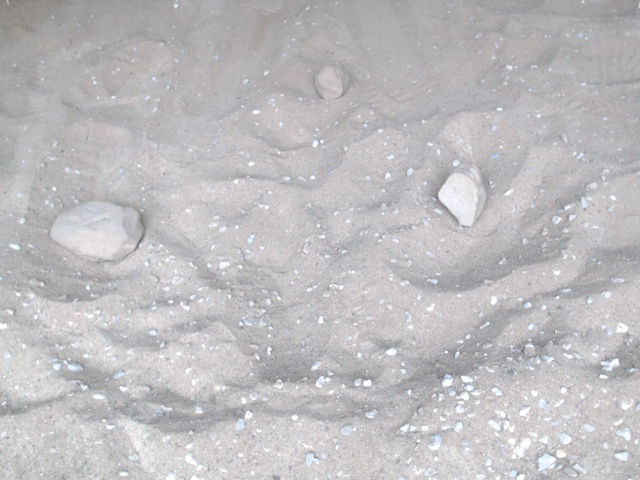rock: (45, 198, 146, 267), (433, 157, 490, 233), (312, 62, 354, 104)
